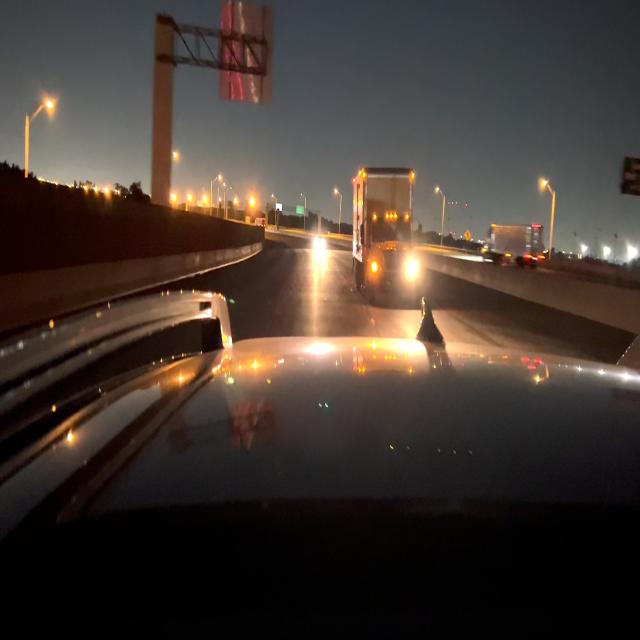back-of-sign: (222, 0, 272, 102)
